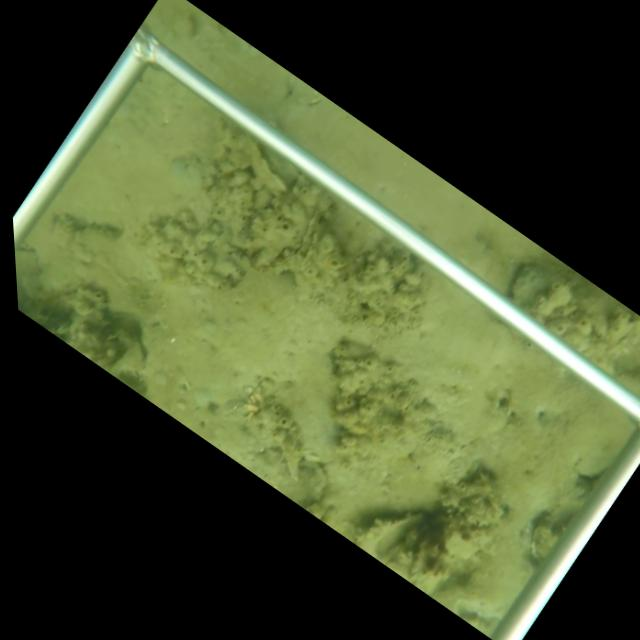Oyster-Closed: (254, 202, 320, 277), (238, 129, 290, 192)
